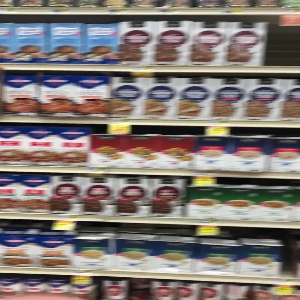void: (266, 16, 300, 69)
